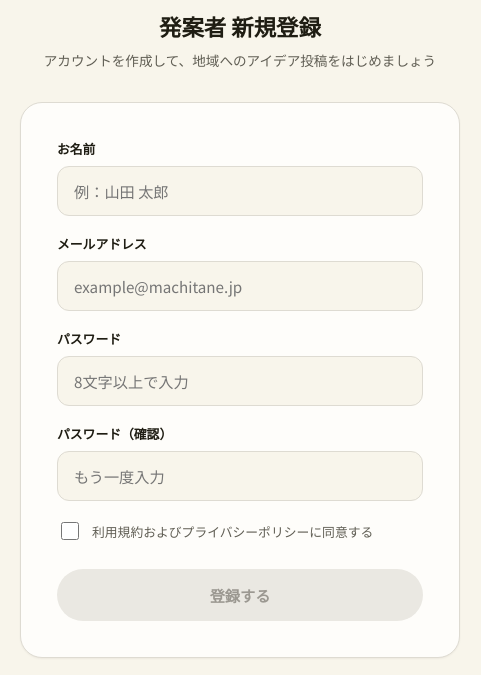
Test: SignupView › 登録失敗時: 完了表示に切り替わらず、エラーメッセージを表示する
This screenshot has width=481, height=675.
Type "山田太郎" into the field with id "signup-name" at (240, 191), box [57,166,423,216]
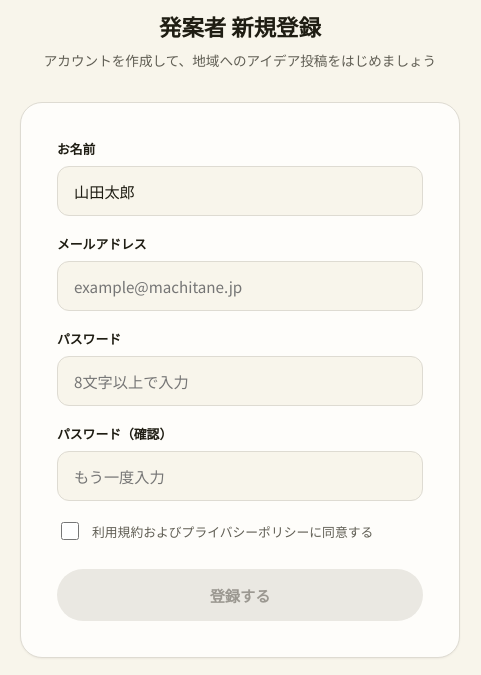
Type "taro@example.com" into the field with id "signup-email" at (240, 286), box [57,261,423,311]
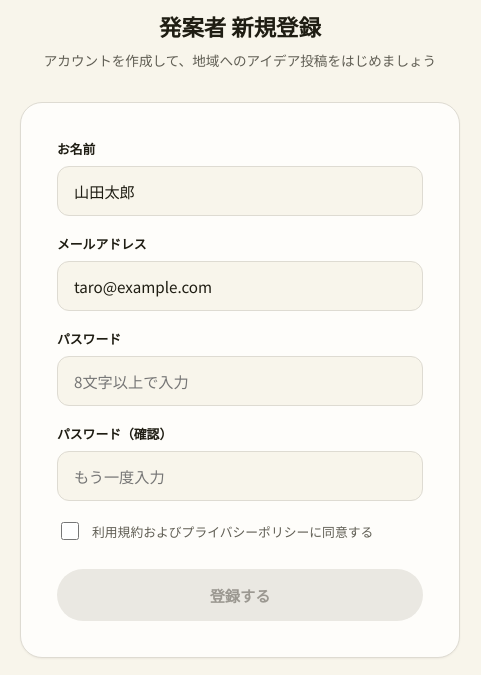
Type "password123" into the password field with id "signup-password" at (240, 381), box [57,356,423,406]
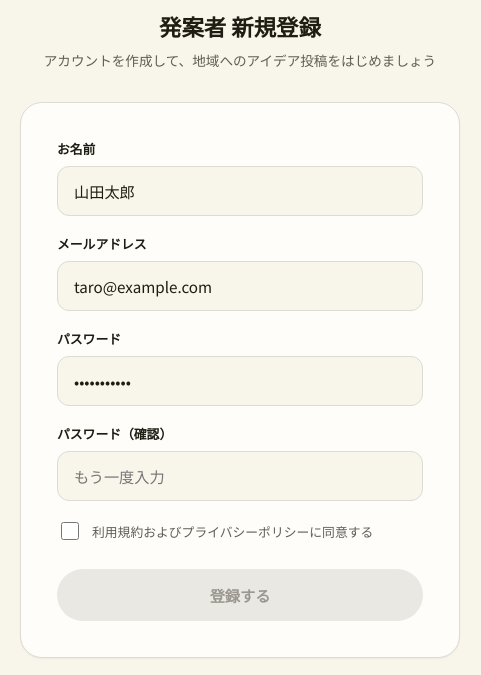
Type "password123" into the password field with id "signup-password-confirmation" at (240, 476), box [57,451,423,501]
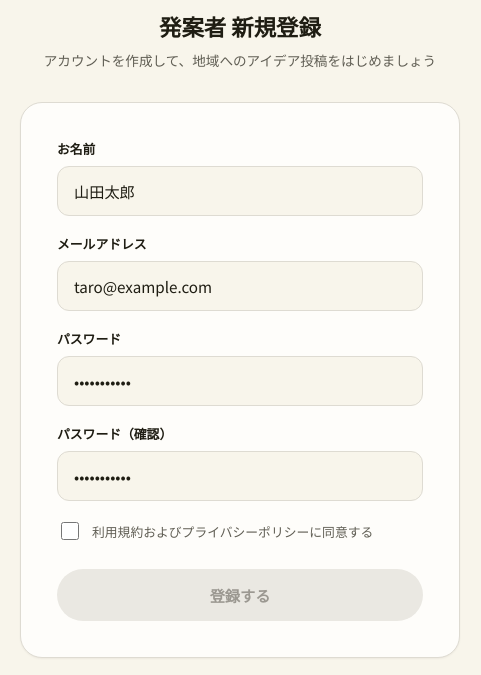
Click the checkbox labelled "利用規約およびプライバシーポリシーに同意する" at (70, 531), box [61,522,79,540]
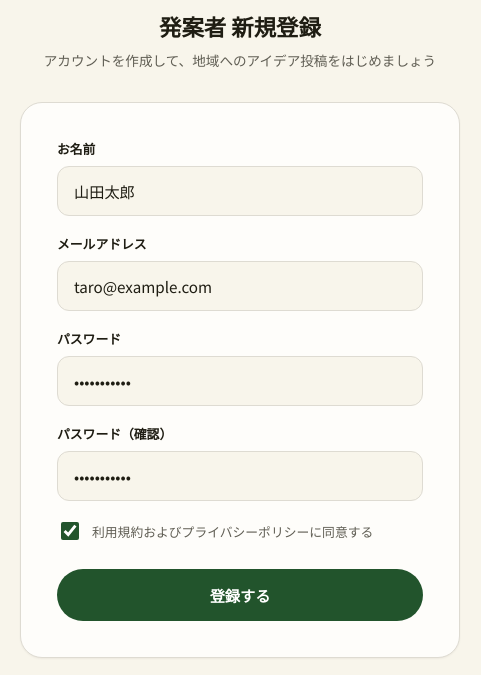
Submit the form
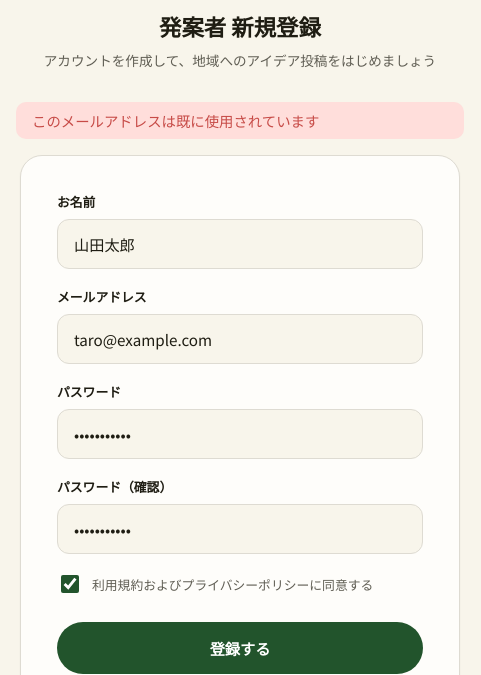
Now the text "このメールアドレスは既に使用されています" is shown, box [16,102,464,139]
